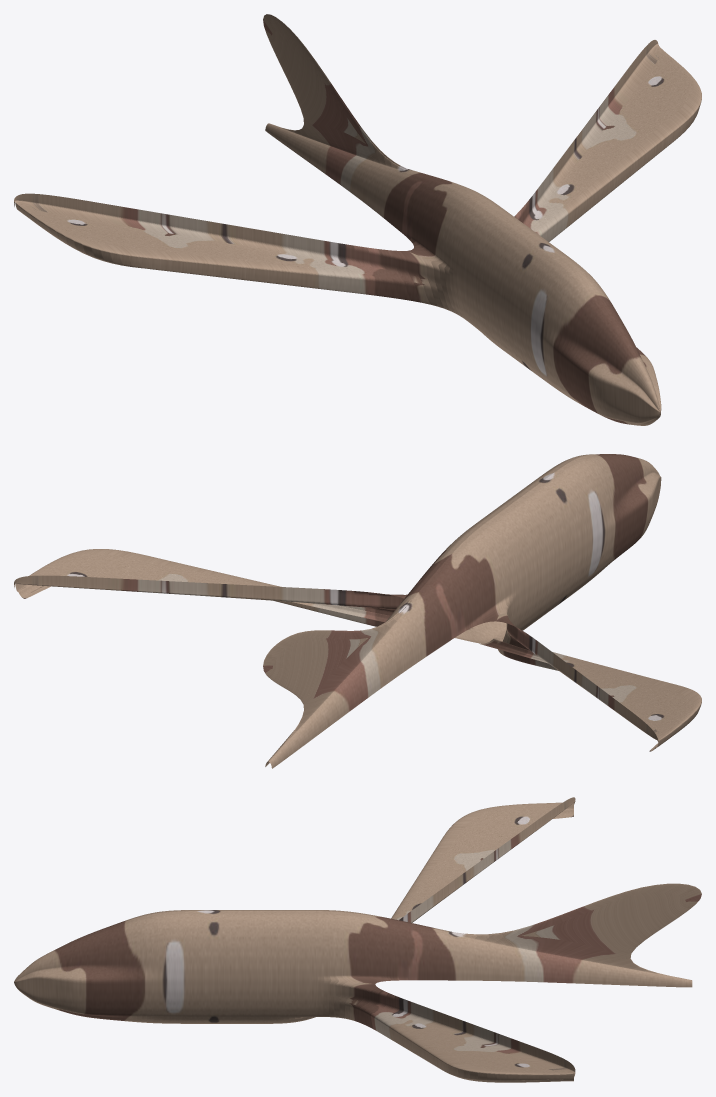
The model's file is statek.fbx.
The picture shows the model from 3 angles, top to bottom: view 1: azimuth 30°, elevation 25°; view 2: azimuth 150°, elevation 25°; view 3: azimuth 270°, elevation 25°; orthographic projection. The views are drawn at different scales.
Visible parts, largest first — view 1: Cylinder; view 2: Cylinder; view 3: Cylinder.
Part boxes in pixels (box(x1,y1,x2,y2)): Cylinder: box(14, 14, 701, 425); Cylinder: box(14, 454, 701, 768); Cylinder: box(14, 797, 701, 1082).
Size of the model in its own units: 596 by 142 by 636.
Materials: 1 (1 with a texture image).
